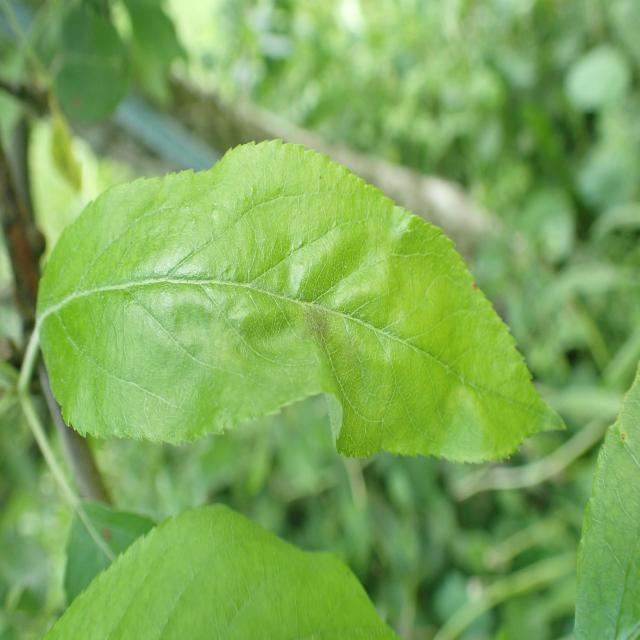scab: (95, 155, 455, 401)
